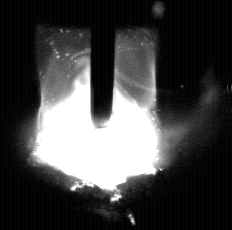arame: (92, 0, 116, 128)
poca: (33, 0, 159, 230)
